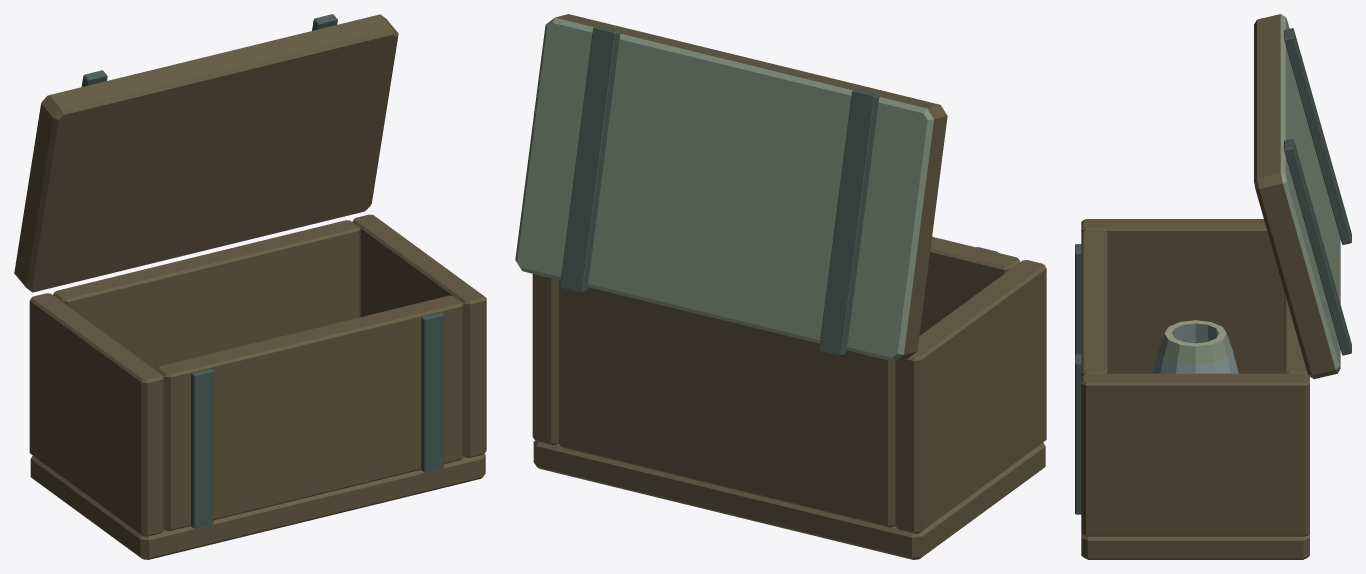
Rendered from supply-cache-open.glb.
The picture shows the model from 3 angles, left to right: view 1: azimuth 30°, elevation 25°; view 2: azimuth 150°, elevation 25°; view 3: azimuth 270°, elevation 25°; orthographic projection. The views are drawn at different scales.
Visible parts, largest first — view 1: supply-cache-open__body; view 2: supply-cache-open__body; view 3: supply-cache-open__body.
Boxes of the visible parts, x1,y1,x2,y2 form: supply-cache-open__body: [14, 14, 486, 559]; supply-cache-open__body: [515, 14, 1046, 559]; supply-cache-open__body: [1075, 14, 1351, 559].
Bounding box in the file's own units: 1.2 × 1.32 × 0.8464.
